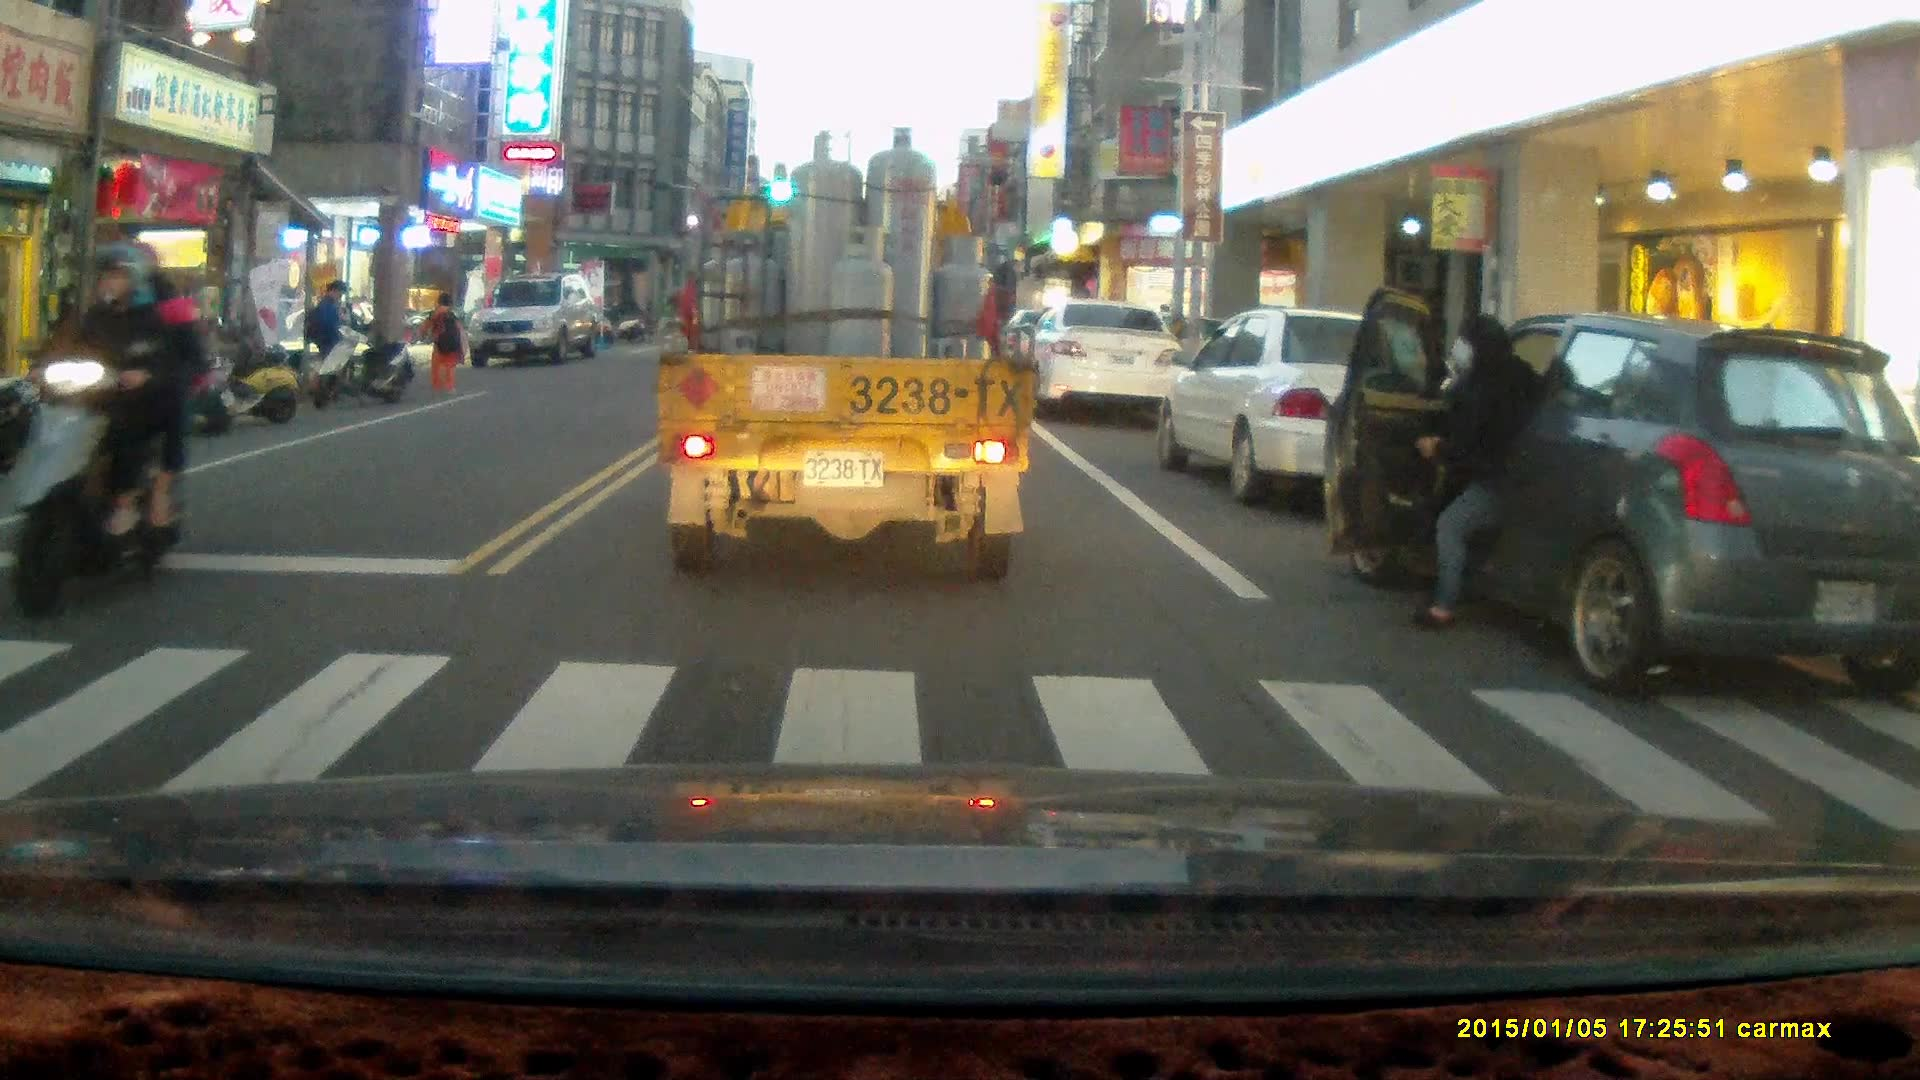pedestrian: (1401, 307, 1538, 633), (413, 288, 464, 390), (304, 277, 347, 397)
rider: (0, 239, 202, 616)
vehicle: (1333, 316, 1920, 701), (654, 124, 1039, 583), (1169, 312, 1499, 509), (1018, 298, 1187, 421), (466, 279, 609, 367)
